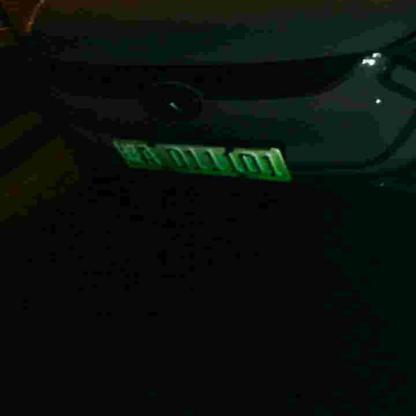lp: (113, 142, 291, 182)
